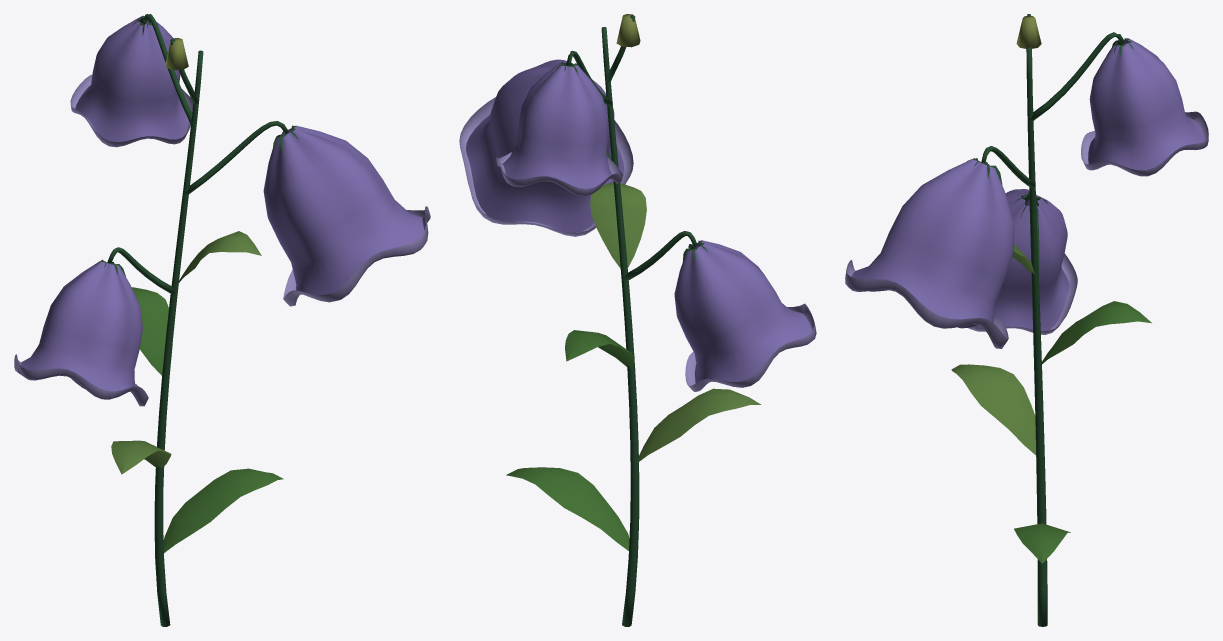
The model's file is meadow_bellflower.hi.glb.
The picture shows the model from 3 angles, left to right: view 1: azimuth 30°, elevation 25°; view 2: azimuth 150°, elevation 25°; view 3: azimuth 270°, elevation 25°; orthographic projection. The views are drawn at different scales.
Visible parts, largest first — view 1: body; view 2: body; view 3: body.
Part boxes in pixels (x1=…): body: x1=14, y1=14, x2=430, y2=626; body: x1=459, y1=14, x2=816, y2=626; body: x1=845, y1=14, x2=1208, y2=626.
Size of the model in its own units: 0.3882 by 0.5901 by 0.3174.
